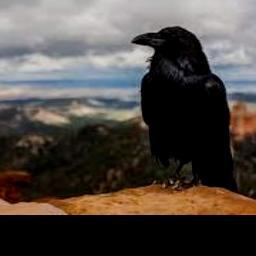Crow: (131, 26, 238, 192)
